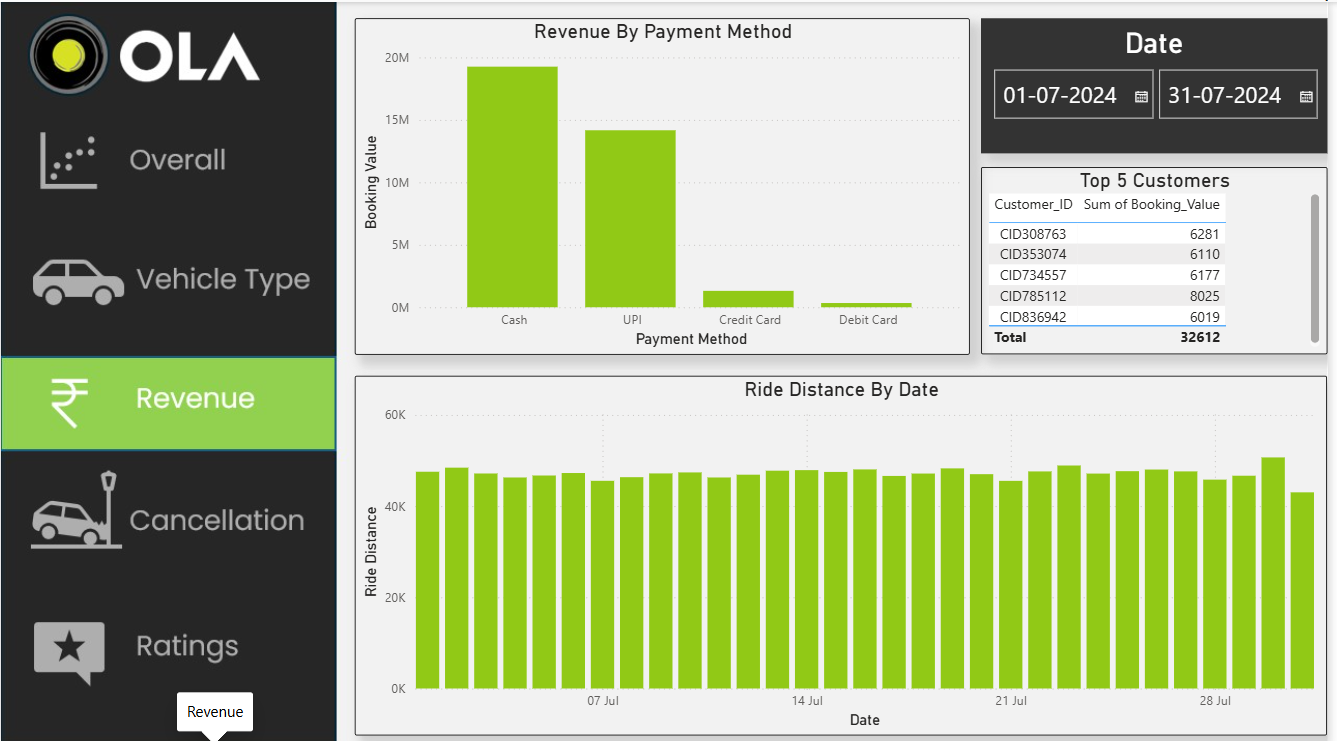

The page's visual inventory and layout, read from the dashboard file:
{"tool":"powerbi","page":{"name":"Revenue","canvas":[1280,720],"ordinal":2},"visuals":[{"type":"actionButton","box":[0,219.6,323.3,91.7],"z":0},{"type":"actionButton","box":[0,340.2,323.3,91.7],"z":1000},{"type":"actionButton","box":[0,454.8,323.3,91.7],"z":2000},{"type":"actionButton","box":[0,579.1,323.3,91.7],"z":3000},{"type":"actionButton","box":[0,108.6,323.3,91.7],"z":4000},{"type":"columnChart","title":"Revenue By Payment Method ","fields":{"Category":["July.Payment_Method"],"Y":["Sum(July.Booking_Value)"]},"box":[341.4,15.7,593.6,324.5],"z":5000},{"type":"columnChart","title":"Ride Distance By Date","fields":{"Category":["July.Date"],"Y":["Sum(July.Ride_Distance)"]},"box":[341.4,360.7,938.6,347.5],"z":6000},{"type":"slicer","title":"Date","fields":{"Values":["July.Date"]},"box":[945.8,15.7,334.2,130.3],"z":7000},{"type":"tableEx","title":"Top 5 Customers","fields":{"Values":["July.Customer_ID","Sum(July.Booking_Value)"]},"box":[945.8,159.3,334.2,181],"z":8000}]}

Visuals, with their boxes in screenshot pixels (x1, y1, x2, y2), scaled from the page's 1280x720 canvas onto the 1337x741 screenshot:
actionButton: 0:226:338:320
actionButton: 0:350:338:444
actionButton: 0:468:338:562
actionButton: 0:596:338:690
actionButton: 0:112:338:206
"Revenue By Payment Method " columnChart: 357:16:977:350
"Ride Distance By Date" columnChart: 357:371:1336:729
"Date" slicer: 988:16:1336:150
"Top 5 Customers" tableEx: 988:164:1336:350
